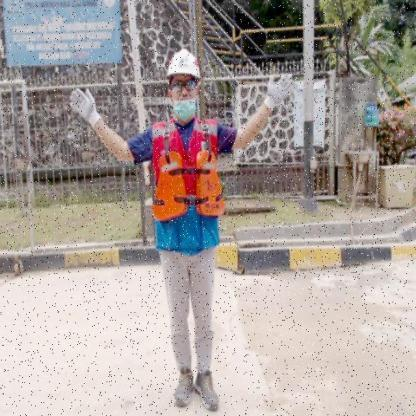boots: (195, 368, 220, 412), (172, 366, 192, 408)
gloves: (66, 82, 104, 132), (262, 68, 296, 112)
goggles: (170, 78, 198, 92)
helmet: (166, 49, 202, 78)
mask: (173, 100, 196, 124)
vest: (152, 154, 226, 220)
